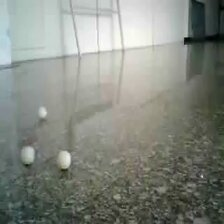tennis: (175, 129, 205, 164), (78, 87, 99, 112), (88, 63, 104, 79), (1, 74, 9, 101)
